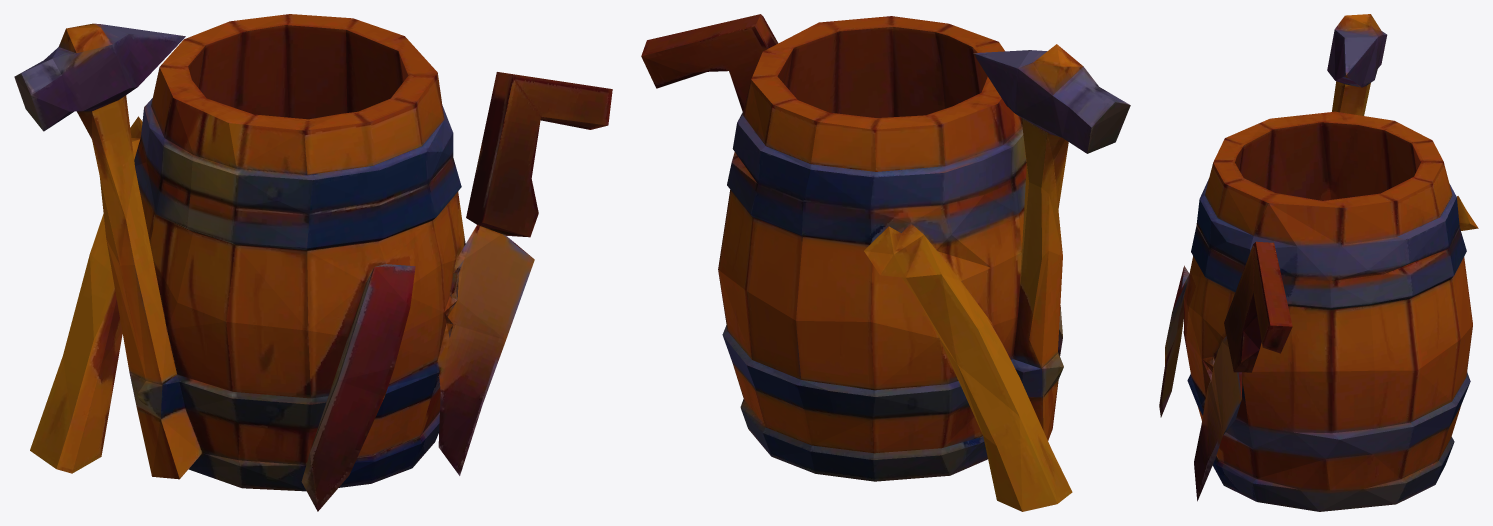
Rendered from wooden_barrel_prop.glb.
3 views of the same model, side by side, from view 1: azimuth 30°, elevation 25°; view 2: azimuth 150°, elevation 25°; view 3: azimuth 270°, elevation 25° (orthographic). The views are drawn at different scales.
Bounding box in the file's own units: 1.99 × 1.58 × 1.22.
1 material, 1 textured.
